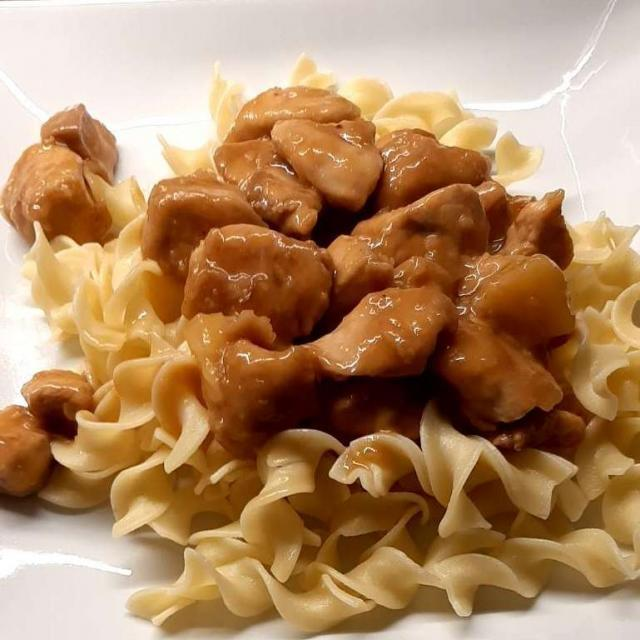chicken: (2, 96, 567, 498)
pasta: (31, 57, 634, 628)
